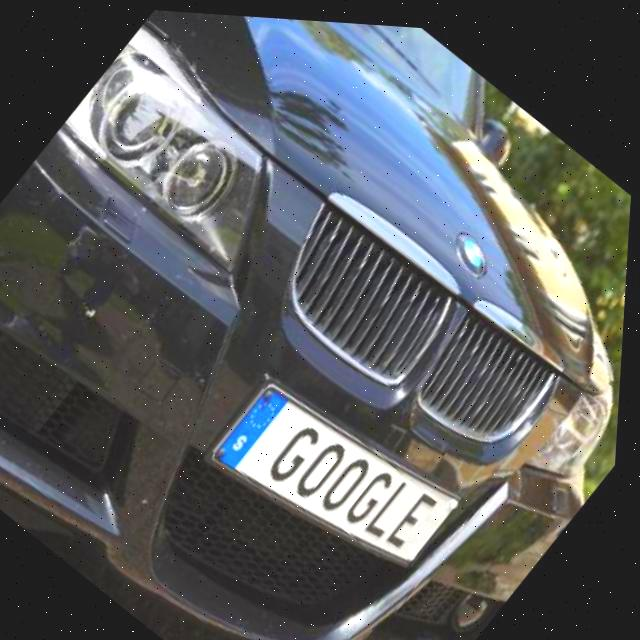license_plate: (196, 340, 479, 602)
